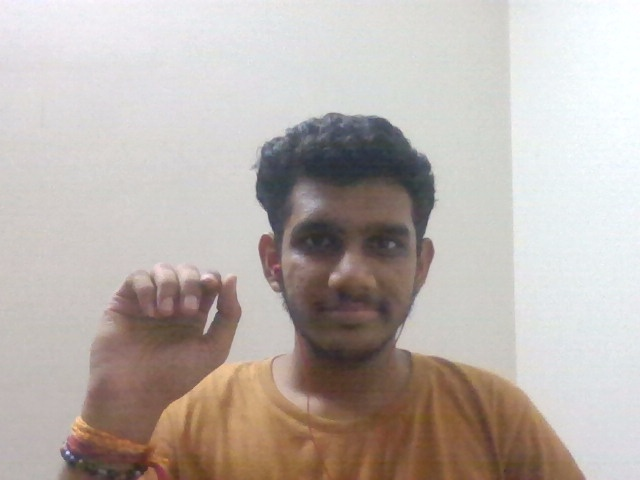hello: (73, 244, 286, 419)
